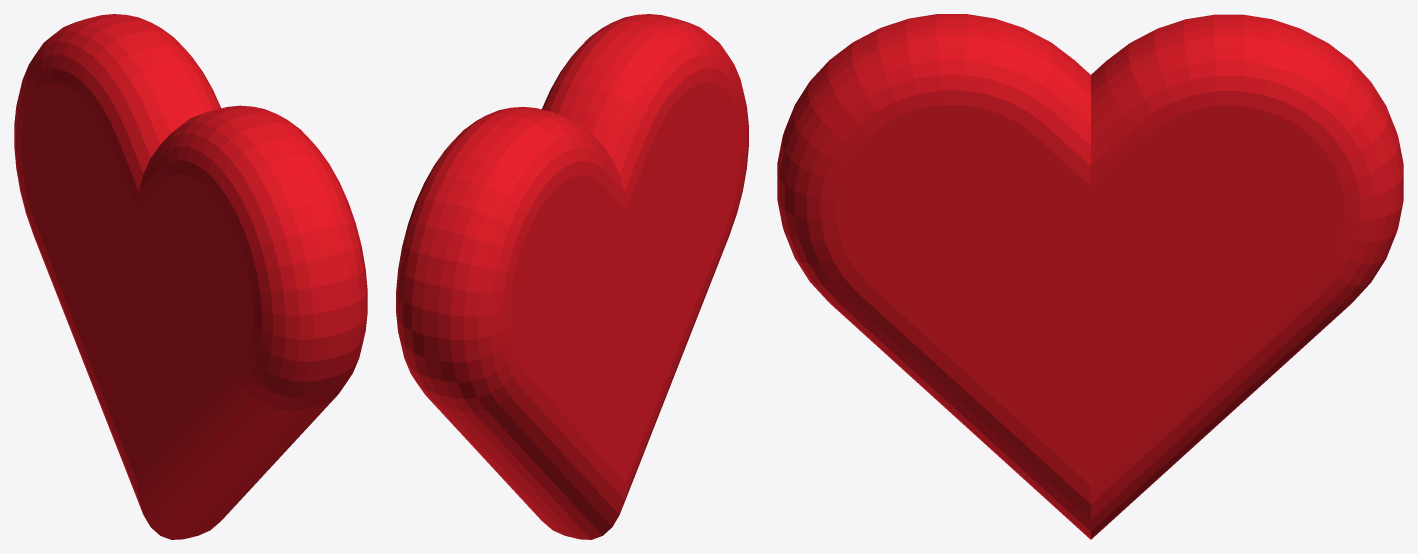
Rendered from Heart.gltf.
3 views of the same model, side by side, from view 1: azimuth 30°, elevation 25°; view 2: azimuth 150°, elevation 25°; view 3: azimuth 270°, elevation 25° (orthographic). The views are drawn at different scales.
Visible parts, largest first — view 1: Cube; view 2: Cube; view 3: Cube.
Part boxes in pixels (x1=…): Cube: x1=14, y1=14, x2=367, y2=539; Cube: x1=396, y1=14, x2=748, y2=539; Cube: x1=777, y1=14, x2=1403, y2=539.
Size of the model in its own units: 0.7752 by 3.2 by 3.57.
